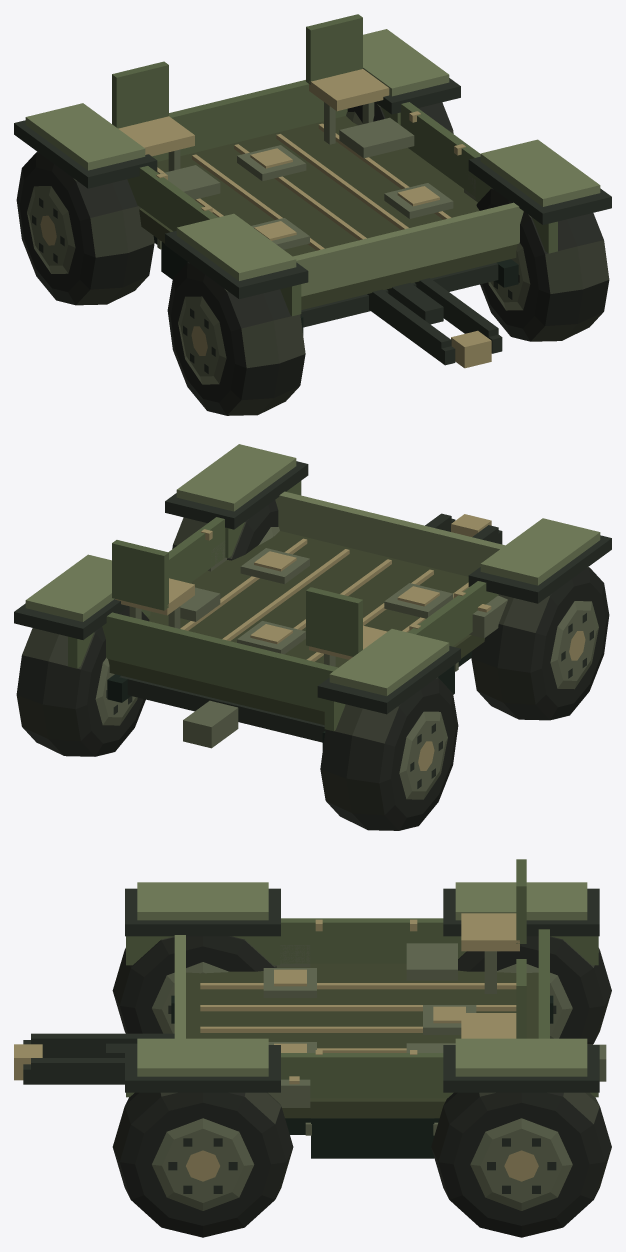
The model's file is wagon_anti_tank.obj.
The picture shows the model from 3 angles, top to bottom: view 1: azimuth 30°, elevation 25°; view 2: azimuth 150°, elevation 25°; view 3: azimuth 270°, elevation 25°; orthographic projection. The views are drawn at different scales.
Parts seen in each view (by area): view 1: WagonDeck.004, AllTerrainTire.016, AllTerrainTire.018, AllTerrainTire.017, DrawbarFrame.004, AllTerrainTire.019; view 2: WagonDeck.004, AllTerrainTire.018, AllTerrainTire.016, AllTerrainTire.019, AllTerrainTire.017, WagonDetails_anti_tank, DrawbarFrame.004; view 3: WagonDeck.004, AllTerrainTire.019, AllTerrainTire.017, AllTerrainTire.016, AllTerrainTire.018, DrawbarFrame.004, WagonDetails_anti_tank.
Part boxes in pixels (<box>): WagonDeck.004: <box>14,14,611,353</box>; AllTerrainTire.016: <box>167,262,305,415</box>; AllTerrainTire.018: <box>16,152,154,305</box>; AllTerrainTire.017: <box>476,188,609,341</box>; DrawbarFrame.004: <box>369,304,502,368</box>; AllTerrainTire.019: <box>346,102,453,133</box>; WagonDeck.004: <box>14,444,611,749</box>; AllTerrainTire.018: <box>320,677,458,830</box>; AllTerrainTire.016: <box>471,567,609,720</box>; AllTerrainTire.019: <box>16,606,149,756</box>; AllTerrainTire.017: <box>172,500,279,560</box>; WagonDetails_anti_tank: <box>208,540,507,638</box>; DrawbarFrame.004: <box>441,514,502,544</box>; WagonDeck.004: <box>31,859,606,1158</box>; AllTerrainTire.019: <box>431,1092,611,1237</box>; AllTerrainTire.017: <box>112,1092,293,1237</box>; AllTerrainTire.016: <box>112,936,276,1033</box>; AllTerrainTire.018: <box>458,936,611,1044</box>; DrawbarFrame.004: <box>14,1040,124,1084</box>; WagonDetails_anti_tank: <box>268,945,310,1107</box>.
Size of the model in its own units: 4.48 by 2.45 by 5.82.
Materials: 1 (1 with a texture image).
